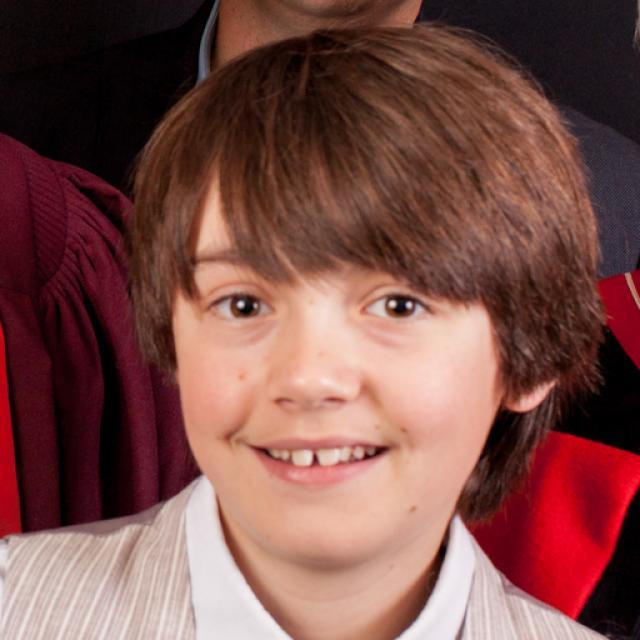happy: (173, 134, 502, 564)
